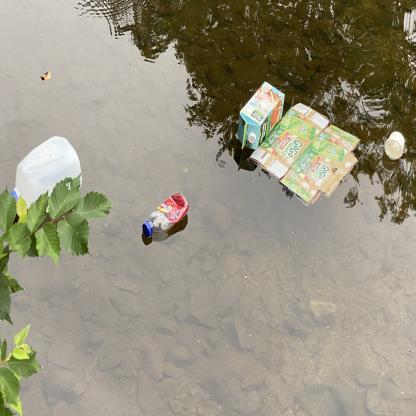trash: (248, 98, 364, 206), (9, 133, 88, 216), (233, 79, 288, 155), (137, 188, 193, 243), (385, 124, 407, 158), (382, 138, 402, 164)
